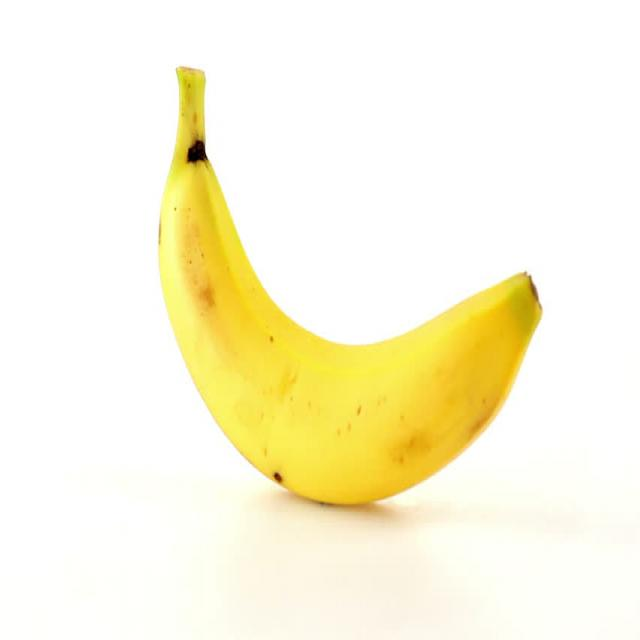Banana: (156, 61, 545, 510)
